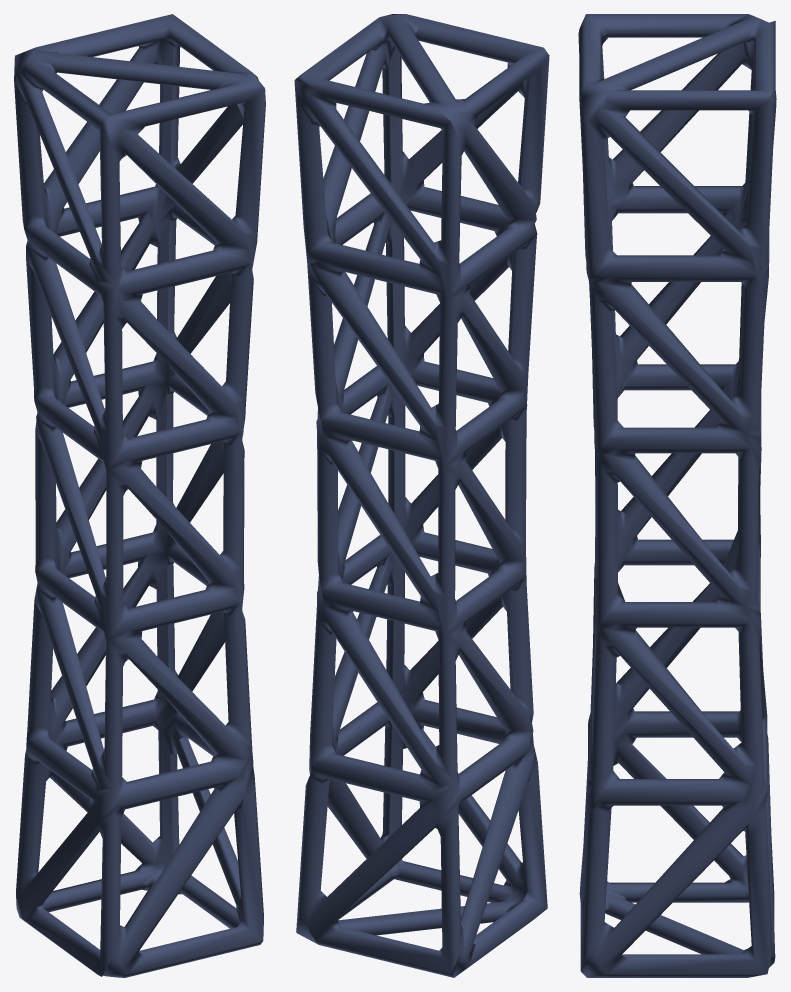
The model's file is SM_Construction_Sign.fbx.
3 renders of one model, left to right at view 1: azimuth 30°, elevation 25°; view 2: azimuth 150°, elevation 25°; view 3: azimuth 270°, elevation 25°, orthographic. The views are drawn at different scales.
Parts seen in each view (by area): view 1: SM_Construction_Sign_v2; view 2: SM_Construction_Sign_v2; view 3: SM_Construction_Sign_v2.
Part boxes in pixels (box(x1,y1,x2,y2)): SM_Construction_Sign_v2: box(14, 14, 265, 977); SM_Construction_Sign_v2: box(294, 14, 549, 977); SM_Construction_Sign_v2: box(578, 14, 776, 977).
Bounding box in the file's own units: 205 × 1018 × 205.
